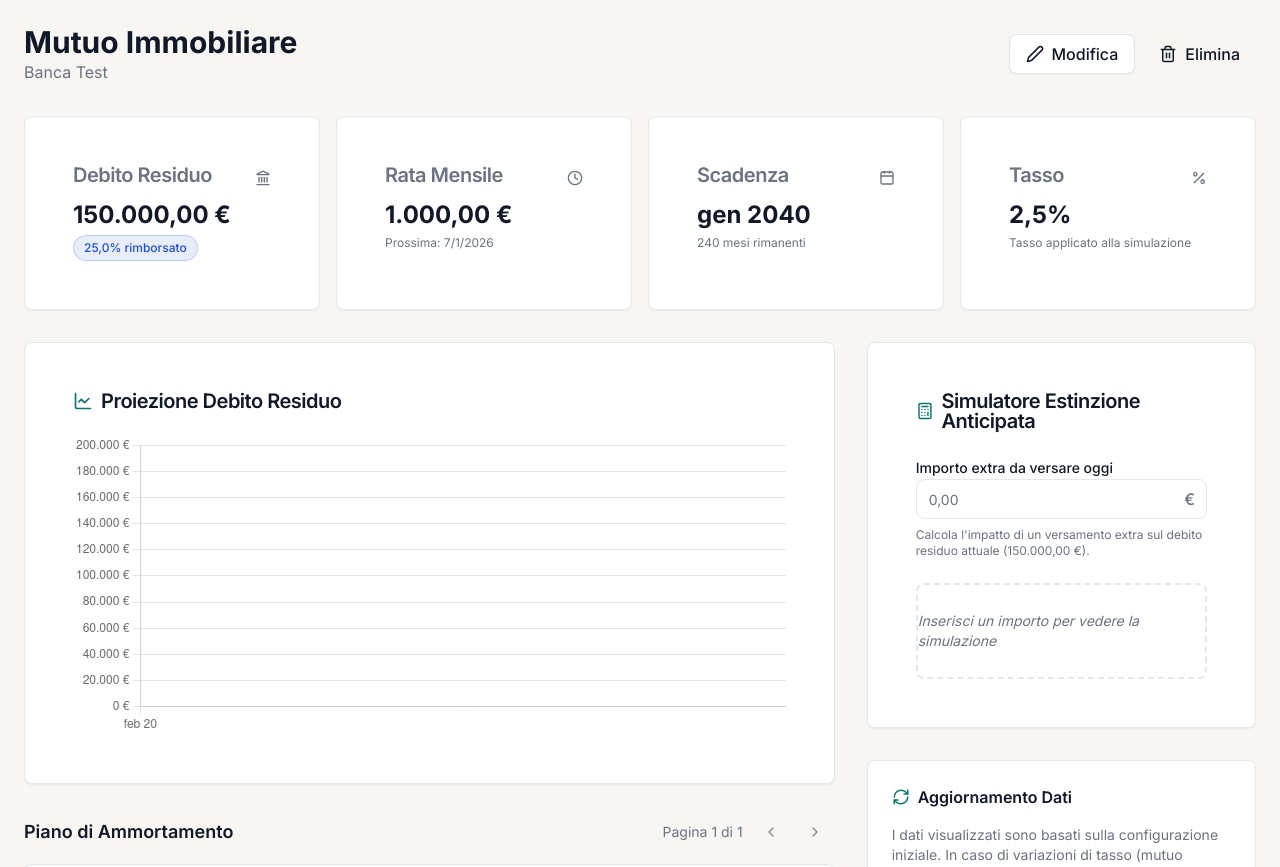
Scenario: MutuoPage › should open edit modal when clicking edit button
// Be more specific since there are multiple buttons with "Modifica"
Click the button "Modifica" at (1072, 54), box [1008,34,1135,74]
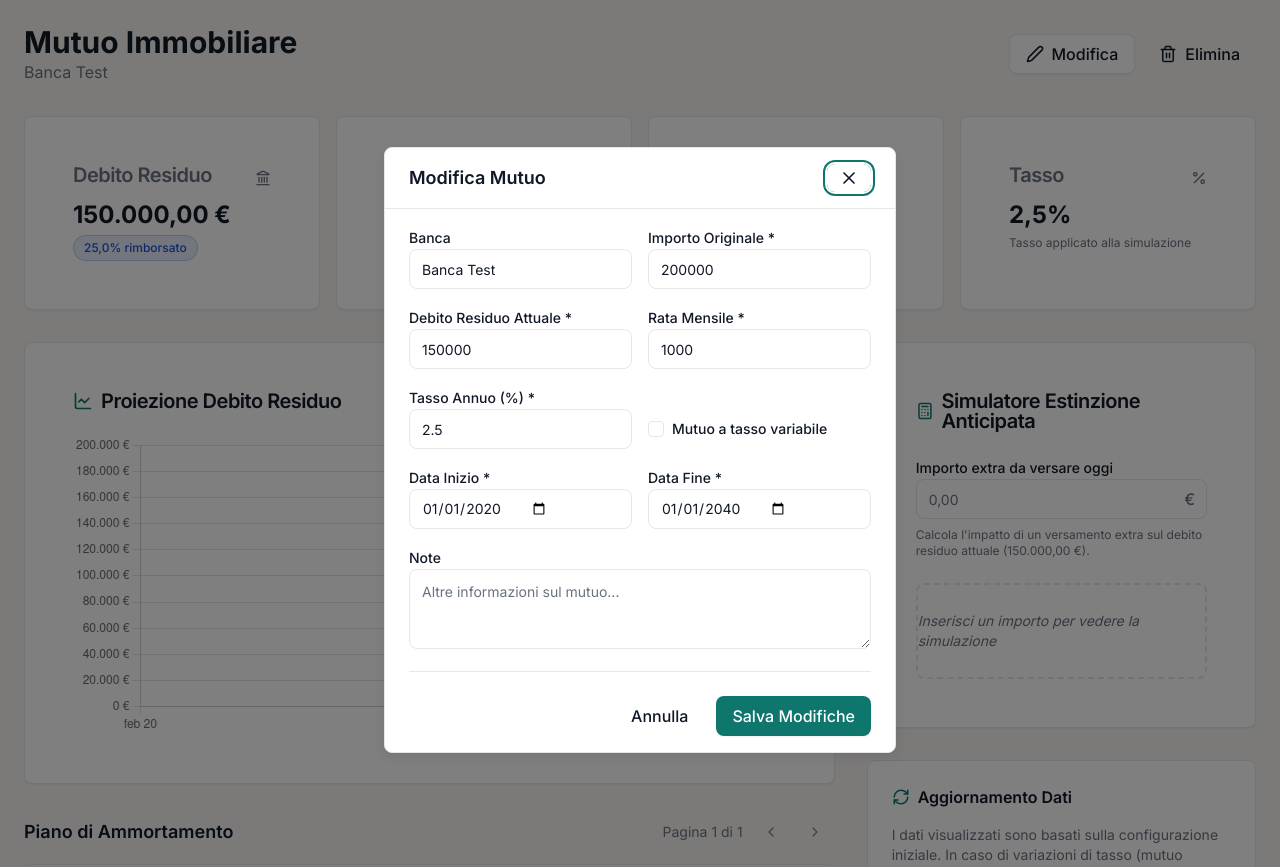
Result: the heading "Modifica Mutuo" is shown at [409,164,546,192]
Result: the field showing "Banca Test" is shown at [409,249,632,289]
